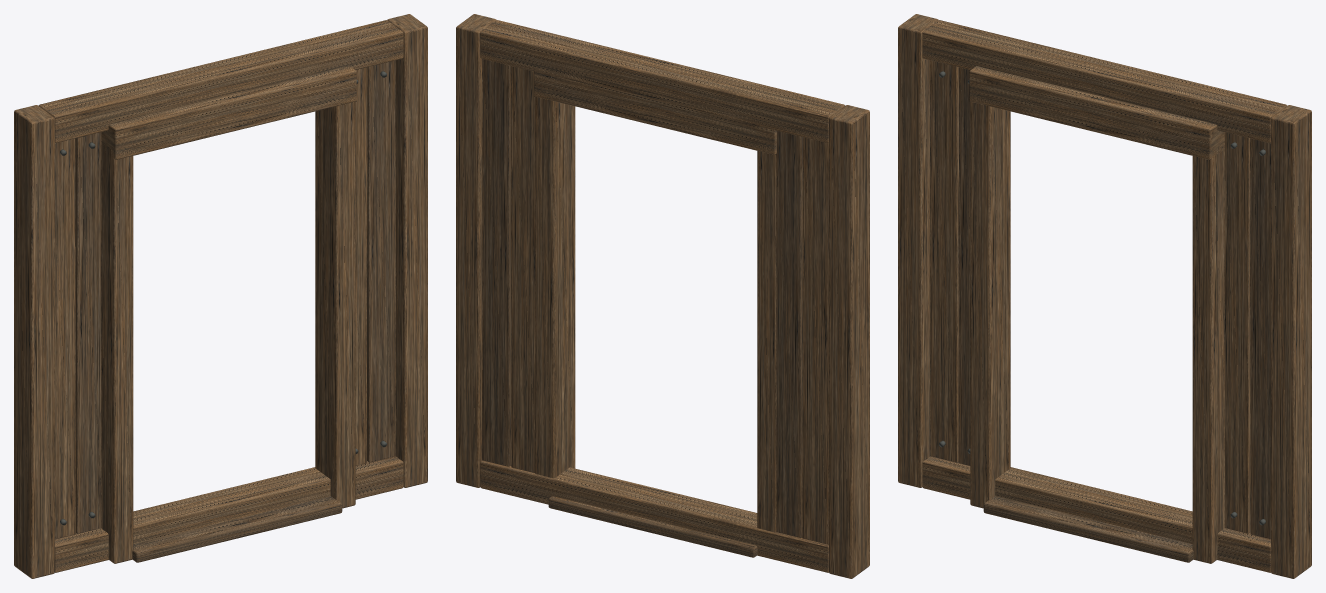
Rendered from wall_doorway_2m.glb.
3 views of the same model, side by side, from view 1: azimuth 30°, elevation 25°; view 2: azimuth 150°, elevation 25°; view 3: azimuth 330°, elevation 25° (orthographic).
Visible parts, largest first — view 1: wall_doorway_2m_mesh; view 2: wall_doorway_2m_mesh; view 3: wall_doorway_2m_mesh.
Part boxes in pixels (<box>): wall_doorway_2m_mesh: <box>14,14,427,578</box>; wall_doorway_2m_mesh: <box>456,14,869,578</box>; wall_doorway_2m_mesh: <box>898,14,1311,578</box>.
Bounding box in the file's own units: 2 × 2.2 × 0.27.
3 materials, 2 textured.
